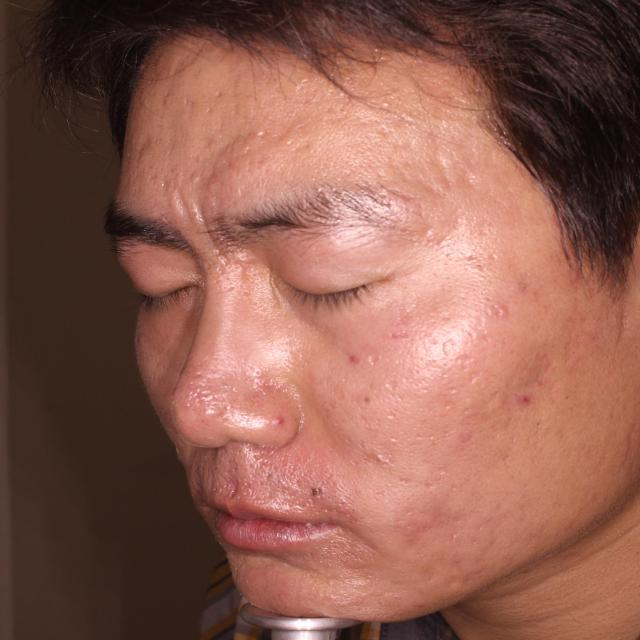comedone: (490, 288, 522, 323), (510, 380, 540, 405)
